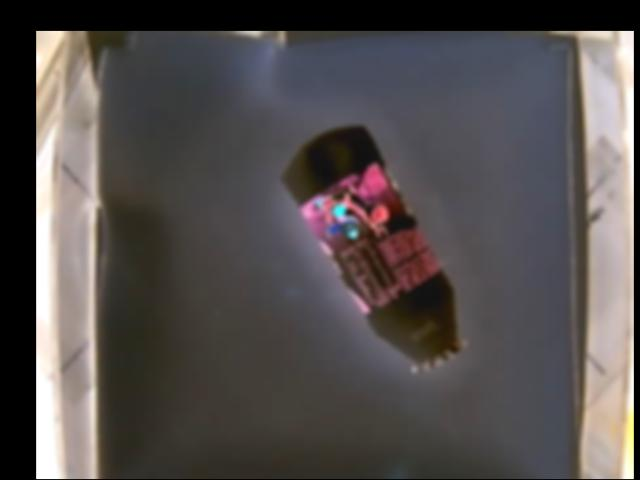Bottle: (279, 119, 466, 368)
